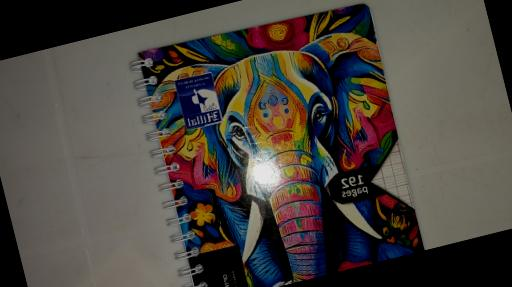notebook: (120, 0, 427, 287)
